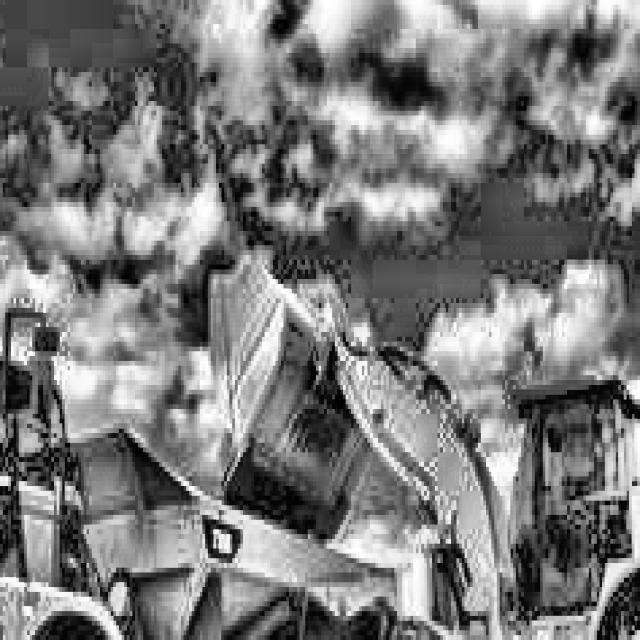buldozerpayloadergrader: (200, 231, 640, 640)
dump_truck: (0, 337, 378, 640)
